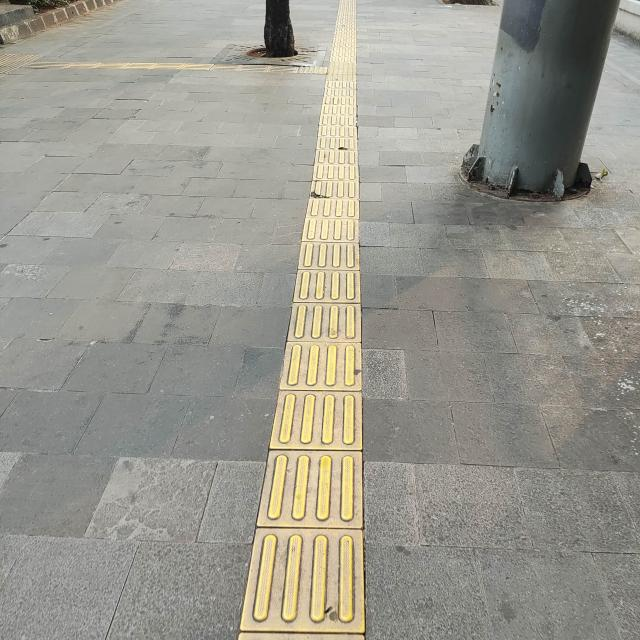lurus: (278, 81, 369, 640)
